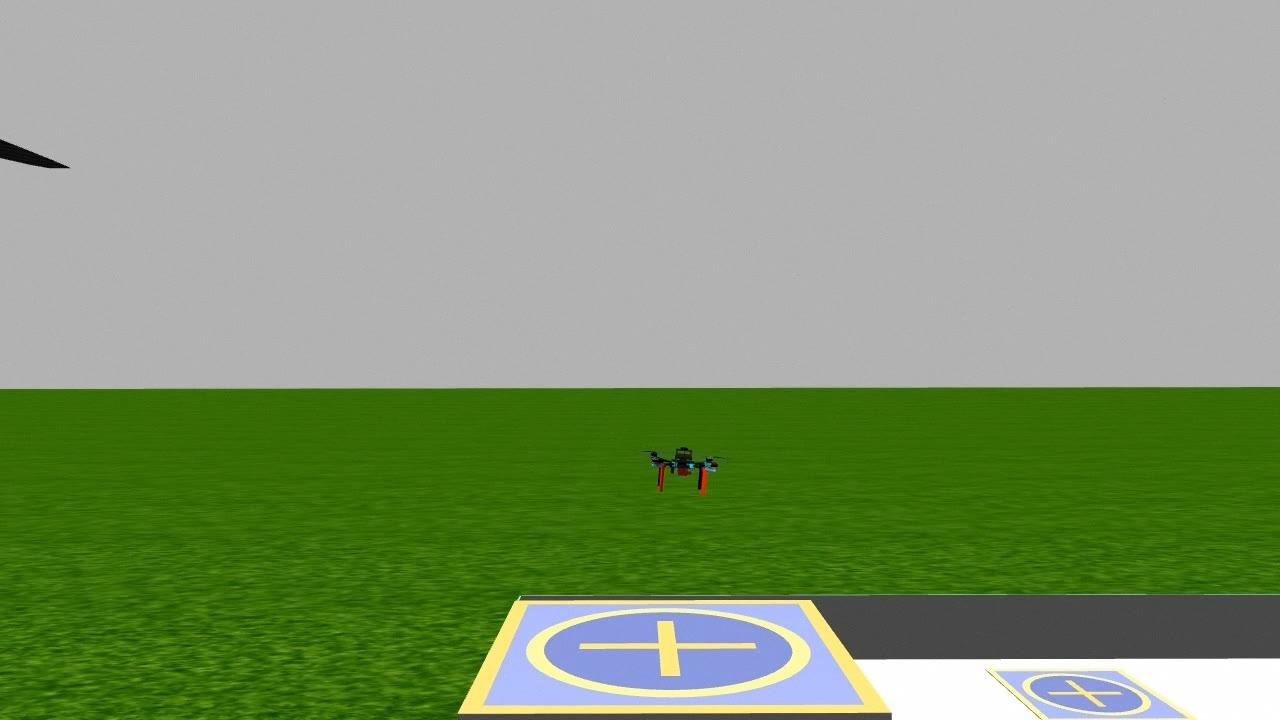UAV: (639, 431, 734, 512)
